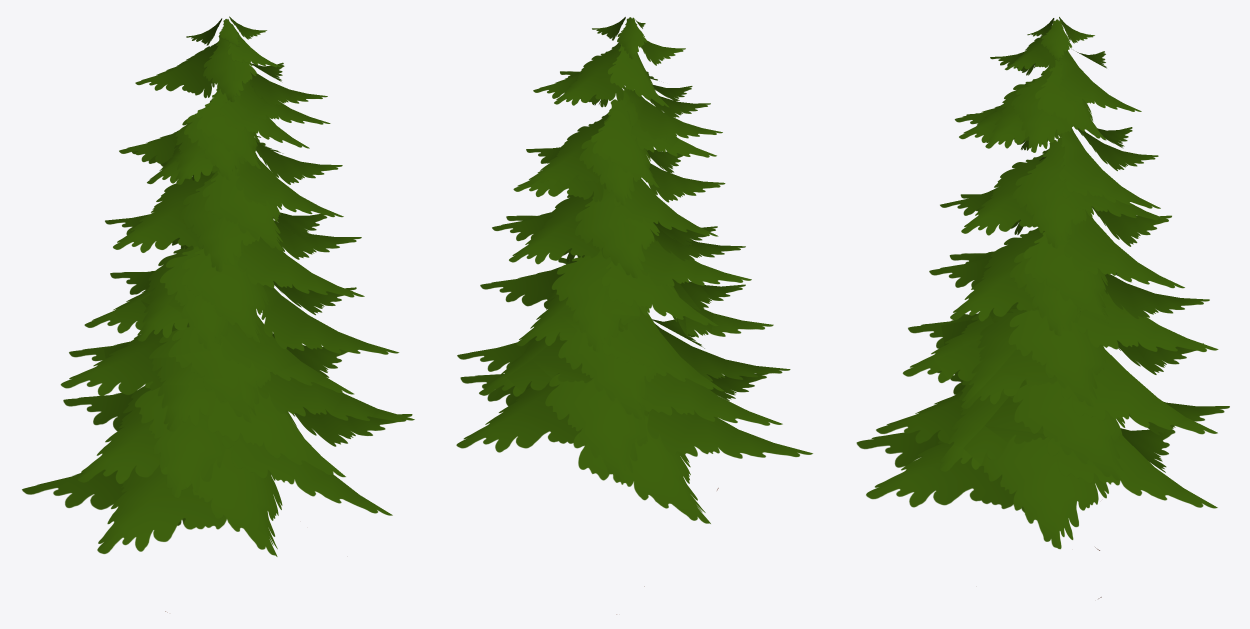
Rendered from tree_pine.glb.
The picture shows the model from 3 angles, left to right: view 1: azimuth 30°, elevation 25°; view 2: azimuth 150°, elevation 25°; view 3: azimuth 270°, elevation 25°; orthographic projection. The views are drawn at different scales.
Parts seen in each view (by area): view 1: tree_pine; view 2: tree_pine; view 3: tree_pine.
Part boxes in pixels (x1=…): tree_pine: x1=22, y1=16, x2=414, y2=612; tree_pine: x1=456, y1=17, x2=812, y2=614; tree_pine: x1=856, y1=17, x2=1229, y2=598.
Size of the model in its own units: 5.8 by 9.44 by 5.37.
Materials: 2 (2 with a texture image).
